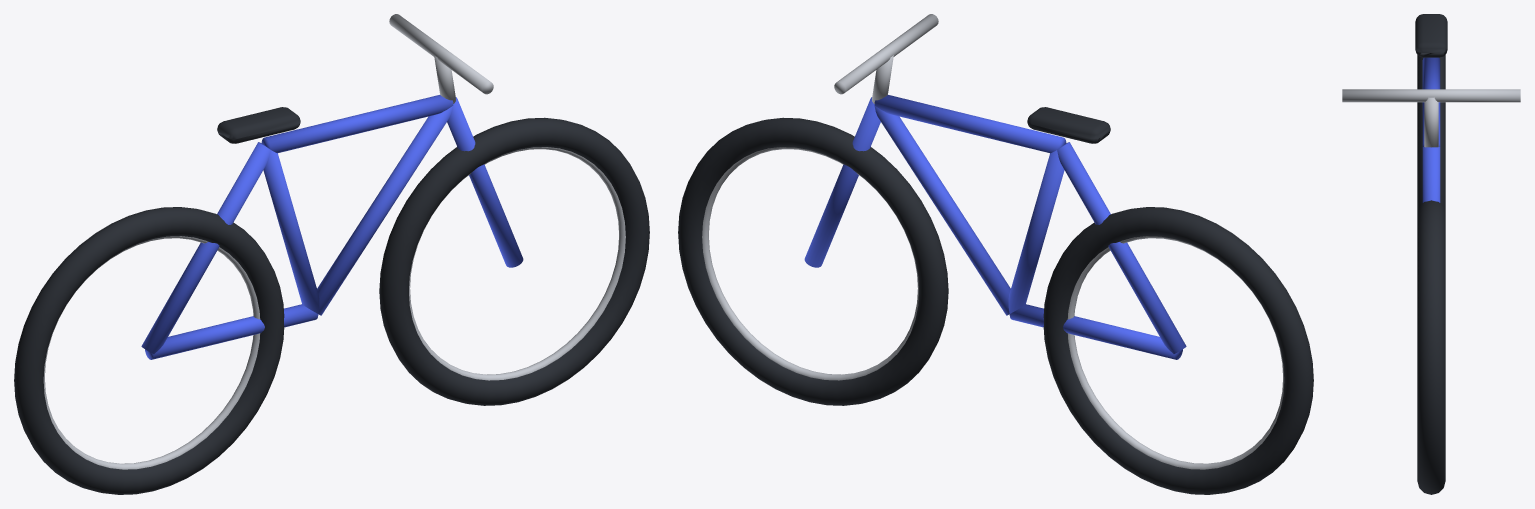
Rendered from bicycle.glb.
The picture shows the model from 3 angles, left to right: view 1: azimuth 30°, elevation 25°; view 2: azimuth 150°, elevation 25°; view 3: azimuth 270°, elevation 25°; orthographic projection. The views are drawn at different scales.
Visible parts, largest first — view 1: tire, tire.001, tube.003, tube.004, tube.002, rim.001, rim, tube.001, tube.005, tube, saddle, bar; view 2: tire, tire.001, tube.003, tube.004, tube.002, rim.001, rim, tube.001, tube.005, tube, saddle, bar; view 3: tire.001, bar, tire, saddle, tube.005, tube.002, stem.
Part boxes in pixels (<box>): tire: <box>14,207,284,494</box>; tire.001: <box>379,117,649,405</box>; tube.003: <box>317,105,453,315</box>; tube.004: <box>141,142,270,353</box>; tube.002: <box>261,95,453,153</box>; rim.001: <box>409,147,625,380</box>; rim: <box>43,236,260,469</box>; tube.001: <box>263,150,319,313</box>; tube.005: <box>447,97,523,267</box>; tube: <box>145,304,318,359</box>; saddle: <box>217,107,300,143</box>; bar: <box>389,14,493,94</box>; tire: <box>1043,207,1313,494</box>; tire.001: <box>678,117,948,405</box>; tube.003: <box>874,105,1010,315</box>; tube.004: <box>1057,142,1186,353</box>; tube.002: <box>874,95,1066,153</box>; rim.001: <box>702,147,918,380</box>; rim: <box>1067,236,1284,469</box>; tube.001: <box>1008,150,1064,313</box>; tube.005: <box>804,97,880,267</box>; tube: <box>1009,304,1182,359</box>; saddle: <box>1027,107,1110,143</box>; bar: <box>834,14,938,94</box>; tire.001: <box>1417,200,1445,494</box>; bar: <box>1342,89,1520,102</box>; tire: <box>1417,55,1445,212</box>; saddle: <box>1415,14,1447,57</box>; tube.005: <box>1422,147,1440,202</box>; tube.002: <box>1422,57,1440,146</box>; stem: <box>1424,97,1438,147</box>.
Size of the model in its own units: 1.73 by 0.971 by 0.44.
